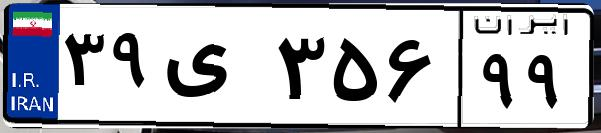3: (270, 28, 330, 110), (57, 26, 110, 100)
5: (330, 28, 385, 110)
6: (385, 28, 445, 110)
9: (475, 38, 525, 113), (525, 38, 570, 115), (110, 28, 158, 98)
ی: (158, 20, 270, 120)
